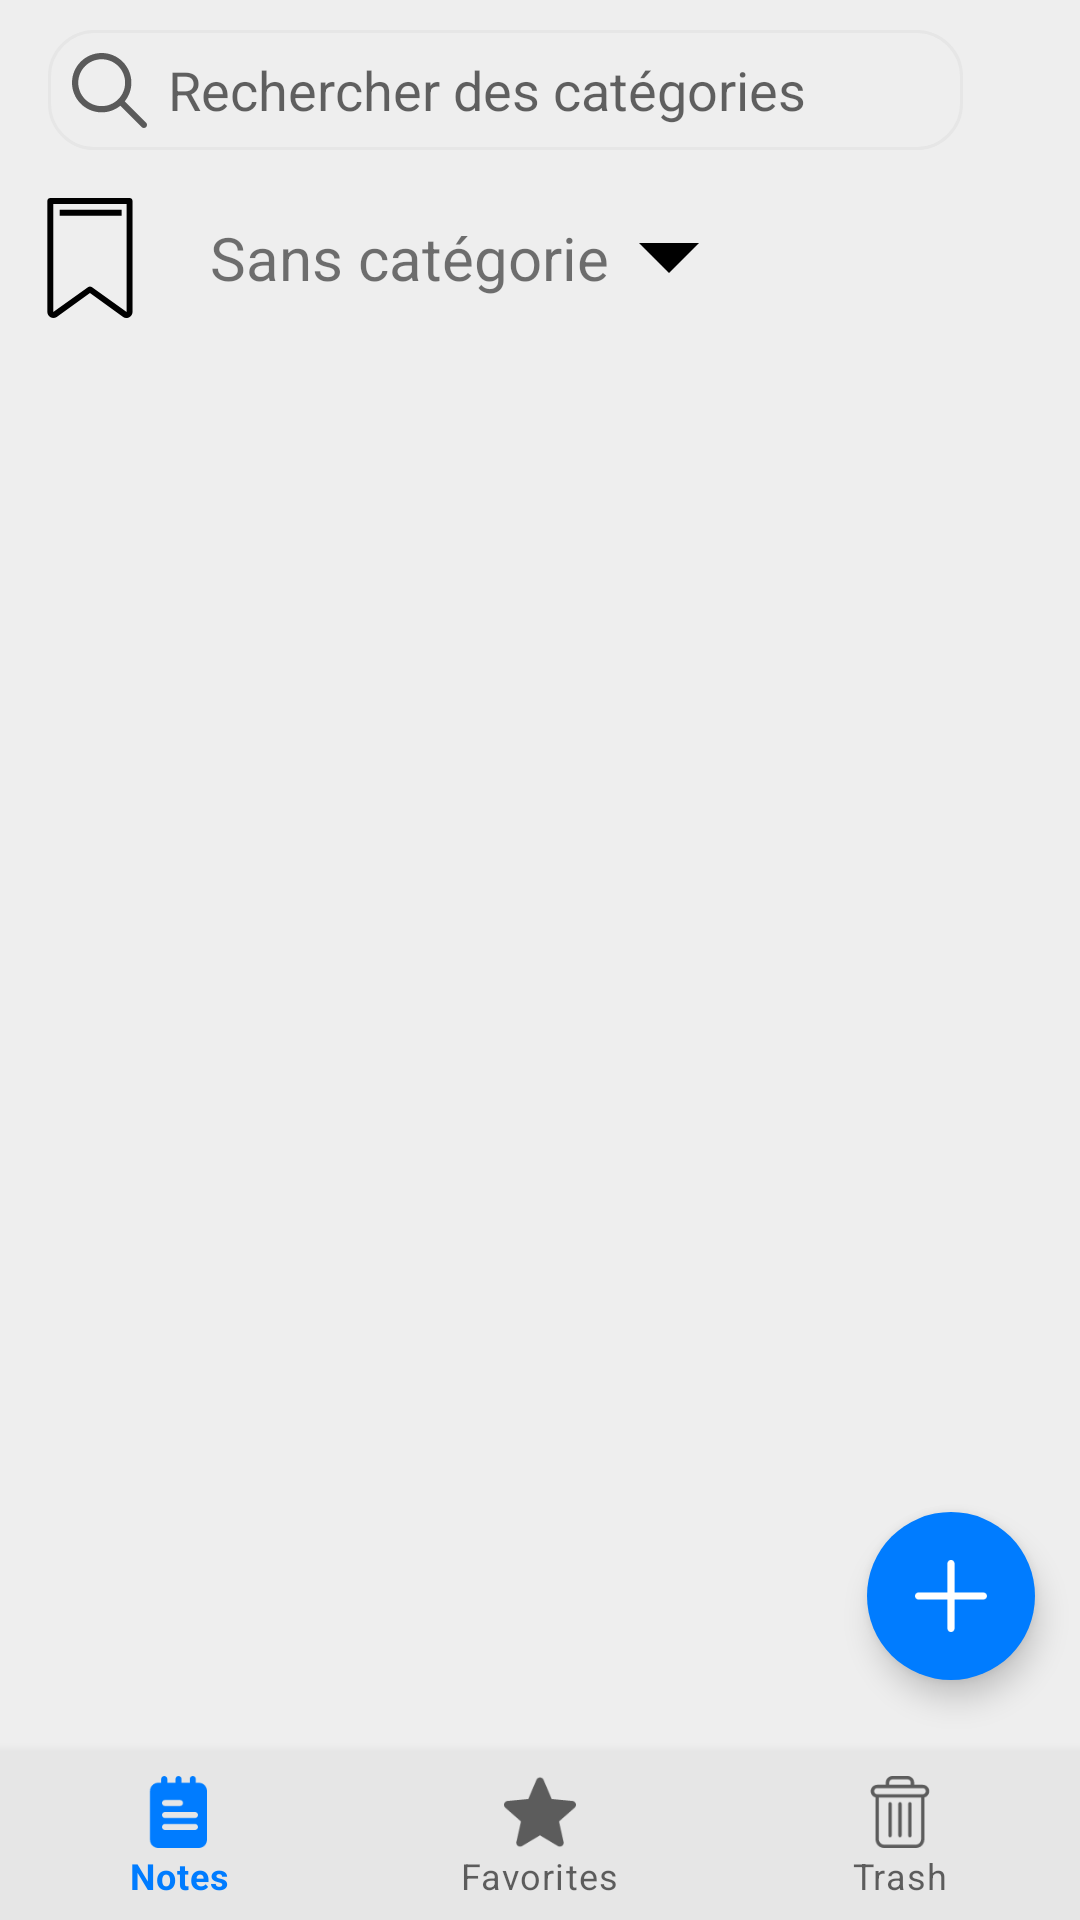

Locate icon controls on the screen. Image size 1080*1920, boxes as box(x1, y1, x2, y2).
arrow point to down: box(639, 243, 699, 273)
bookmark: box(47, 198, 133, 318)
plus: box(867, 1512, 1035, 1680)
search: box(72, 53, 147, 128)
